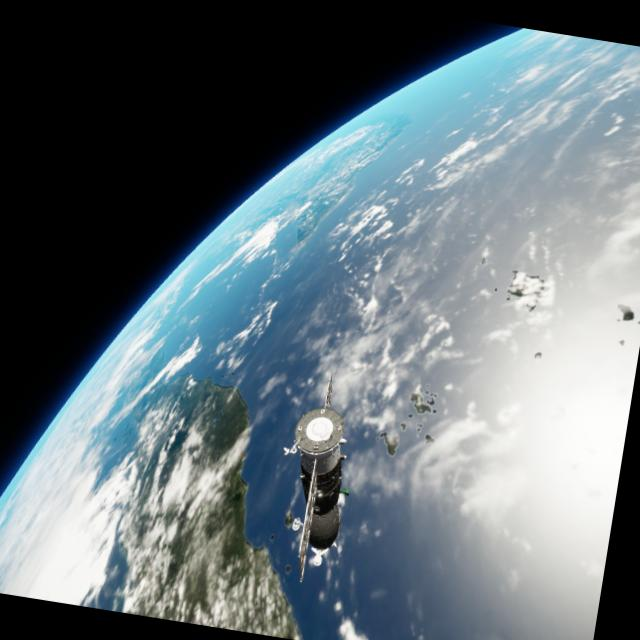Satellites revolving around earth: (0, 0, 640, 640), (268, 365, 368, 589)
